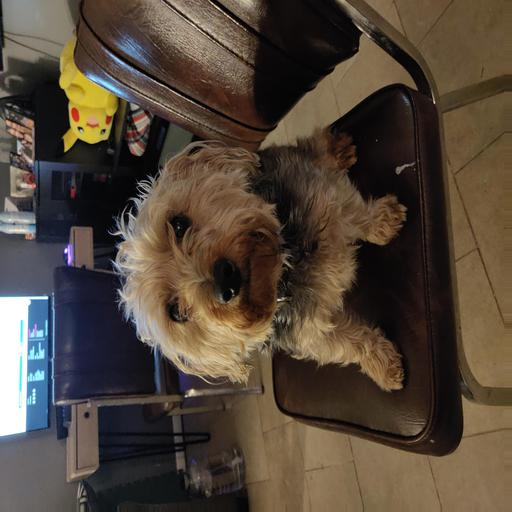dog: (126, 136, 377, 387)
